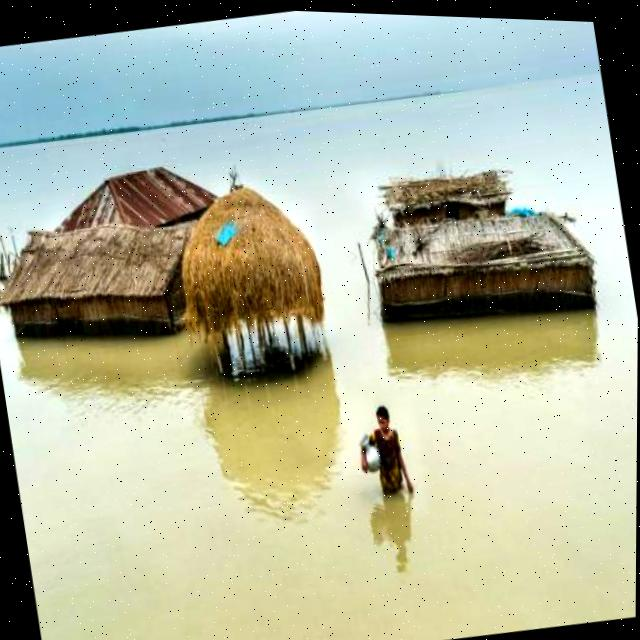civilian: (338, 387, 427, 516)
